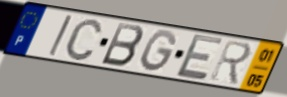B: (98, 21, 146, 69)
C: (63, 17, 104, 63)
E: (174, 32, 226, 82)
G: (138, 28, 178, 74)
I: (46, 13, 74, 58)
R: (208, 38, 254, 88)
